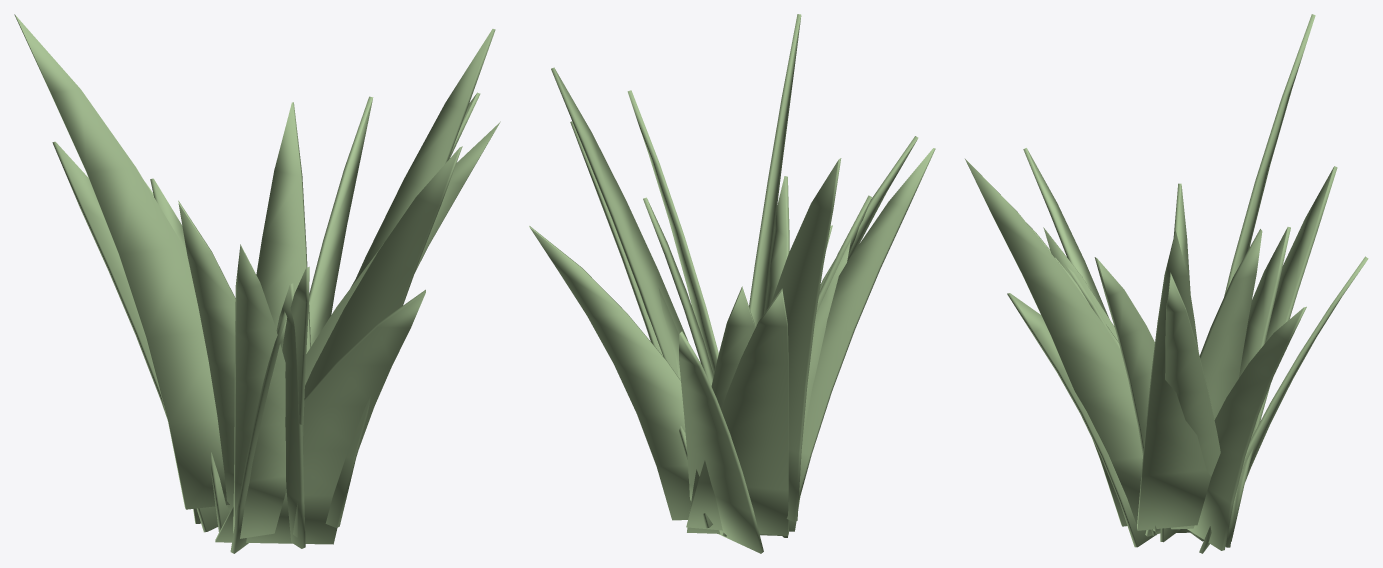
The model's file is agave_2.glb.
3 views of the same model, side by side, from view 1: azimuth 30°, elevation 25°; view 2: azimuth 150°, elevation 25°; view 3: azimuth 270°, elevation 25° (orthographic). The views are drawn at different scales.
Parts seen in each view (by area): view 1: agave; view 2: agave; view 3: agave.
Part boxes in pixels (x1,y1,x2,y2): agave: (14,14,500,553); agave: (529,14,935,553); agave: (965,14,1368,553).
Bounding box in the file's own units: 0.5992 × 0.7269 × 0.5998.
